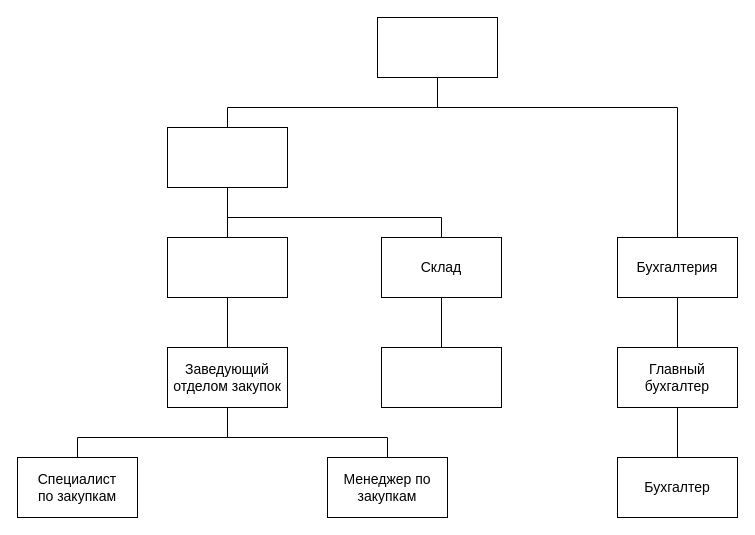
This 755x535 diagram has some shape labels left out. Here are the shapes that lost their labels. From the top down, the box of each, then its label:
(376, 16, 498, 78): Директор
(166, 126, 288, 188): Заместитель директора
(166, 236, 288, 298): Отдел закупок
(380, 346, 502, 408): Заведующий складом
